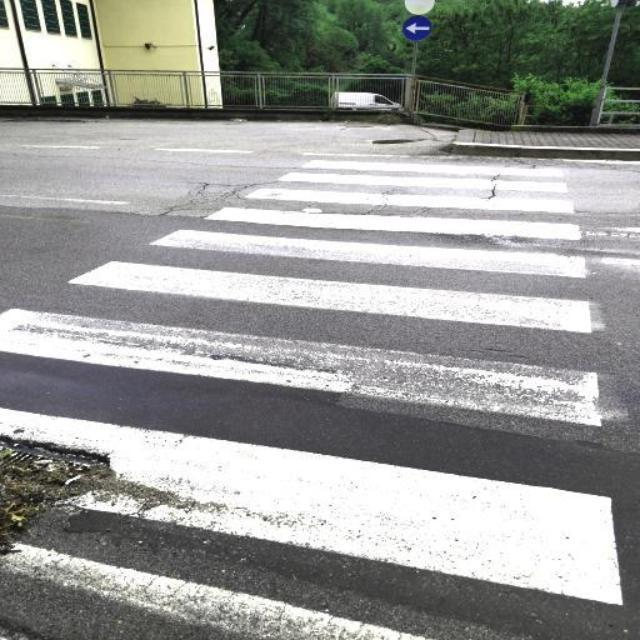sidewalk: (1, 159, 622, 605)
